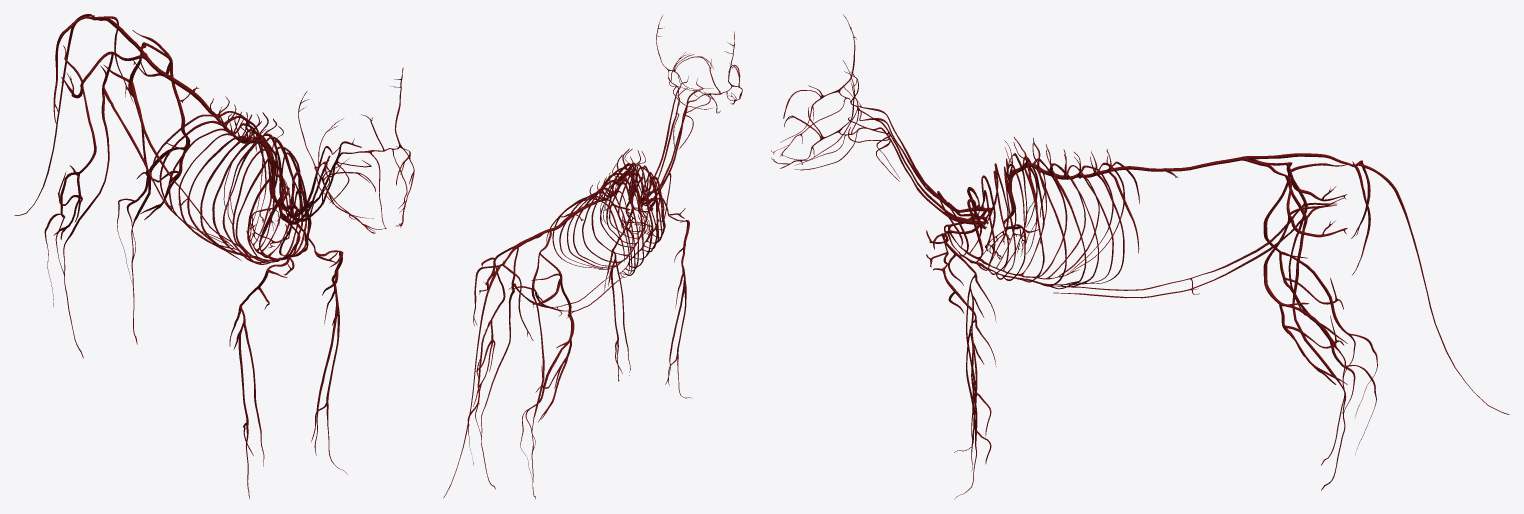
File: Arteries.fbx
3 renders of one model, left to right at view 1: azimuth 30°, elevation 25°; view 2: azimuth 150°, elevation 25°; view 3: azimuth 270°, elevation 25°, orthographic. The views are drawn at different scales.
Visible parts, largest first — view 1: Arteries; view 2: Arteries; view 3: Arteries.
Part boxes in pixels (x1,y1,x2,y2): Arteries: (14, 14, 414, 498); Arteries: (443, 15, 742, 498); Arteries: (771, 14, 1509, 499).
Bounding box in the file's own units: 8.27 × 32.85 × 49.73.
